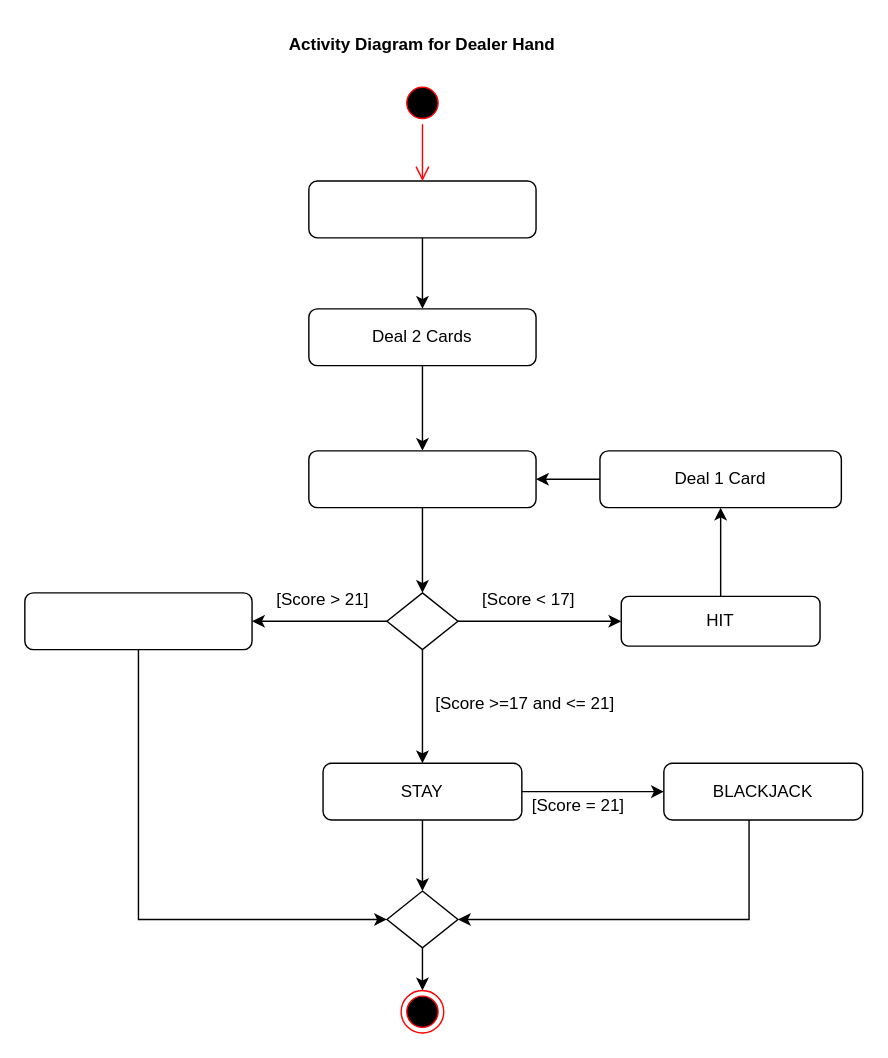
The diagram is 888 pixels wide and 1058 high, and some of its shapes have lost their labels. Here are the shapes that lost their labels. From the top down, the centre of each, then its label:
(421,209): Fill Cards/Shuffle
(421,478): Get Dealer Score
(137,620): BUST
